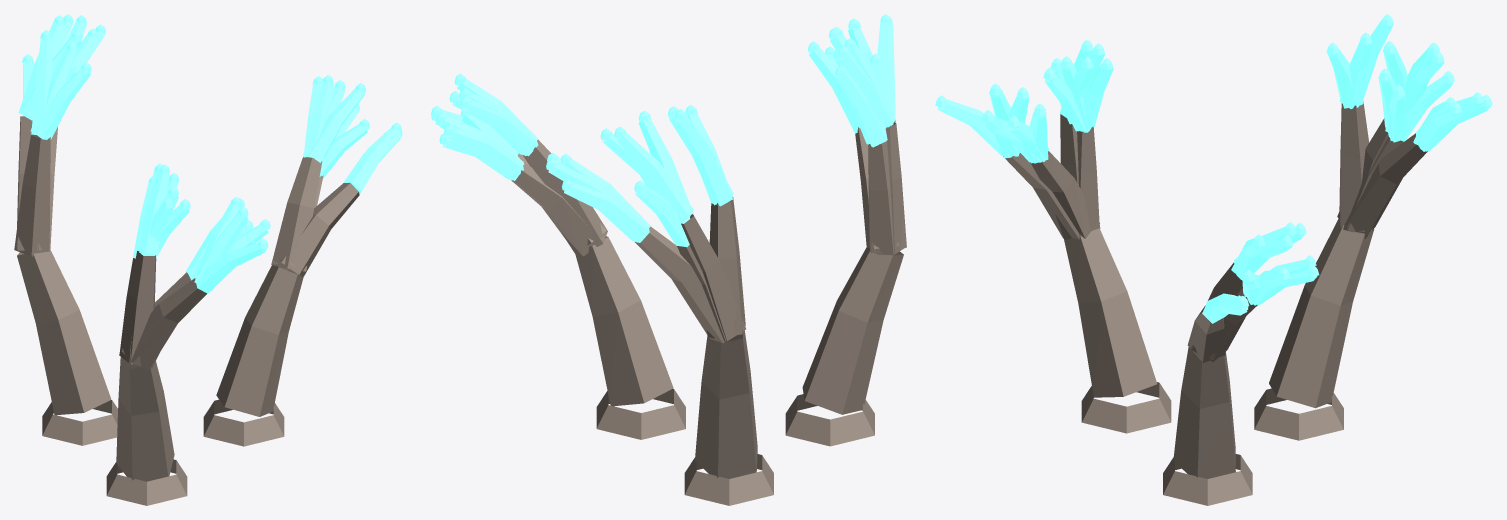
File: coral_v02.glb
3 views of the same model, side by side, from view 1: azimuth 30°, elevation 25°; view 2: azimuth 150°, elevation 25°; view 3: azimuth 270°, elevation 25° (orthographic). The views are drawn at different scales.
Parts seen in each view (by area): view 1: mushroom_coral_flesh_nocol, mushroom_coral_glow_nocol; view 2: mushroom_coral_flesh_nocol, mushroom_coral_glow_nocol; view 3: mushroom_coral_flesh_nocol, mushroom_coral_glow_nocol.
Boxes of the visible parts, x1,y1,x2,y2 form: mushroom_coral_flesh_nocol: (14, 116, 359, 505); mushroom_coral_glow_nocol: (18, 14, 402, 293); mushroom_coral_flesh_nocol: (511, 120, 906, 505); mushroom_coral_glow_nocol: (431, 14, 895, 247); mushroom_coral_flesh_nocol: (1003, 102, 1427, 505); mushroom_coral_glow_nocol: (935, 14, 1492, 323).
Size of the model in its own units: 1.34 by 1.33 by 1.66.
